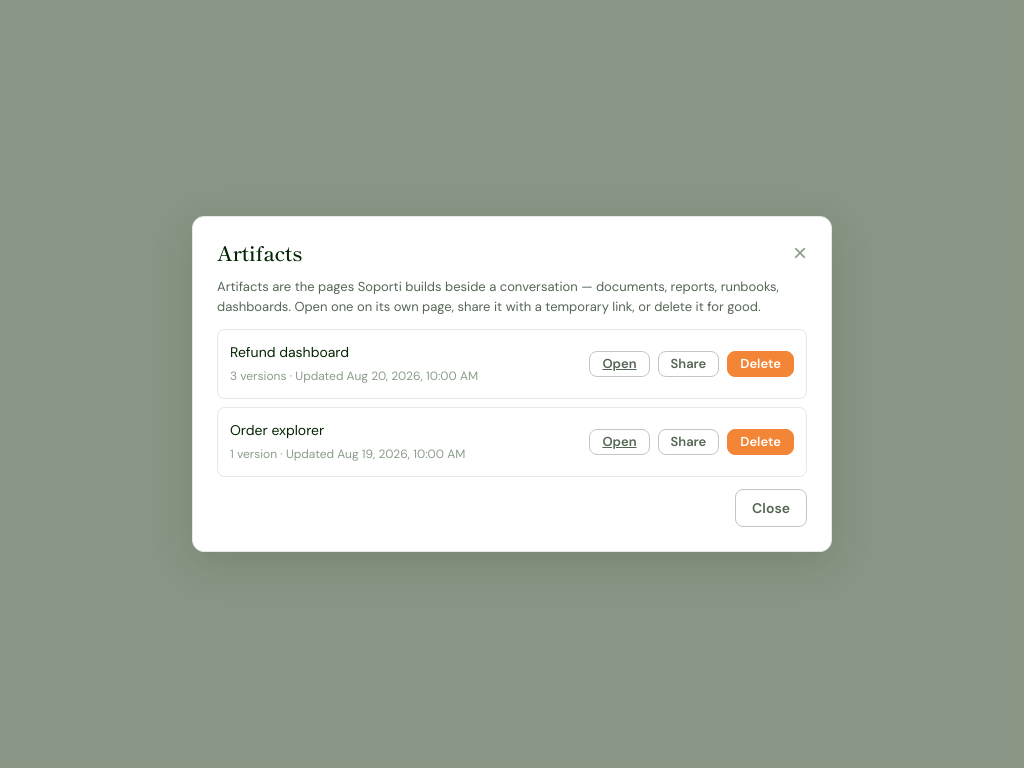
Test: ArtifactsModal › asks for confirmation before deleting
The image size is (1024, 768).
expect the text "Refund dashboard" is shown: met, box [230, 343, 349, 361]
Click the button "Delete" in the row of "Refund dashboard": [761, 364] box [727, 351, 794, 377]
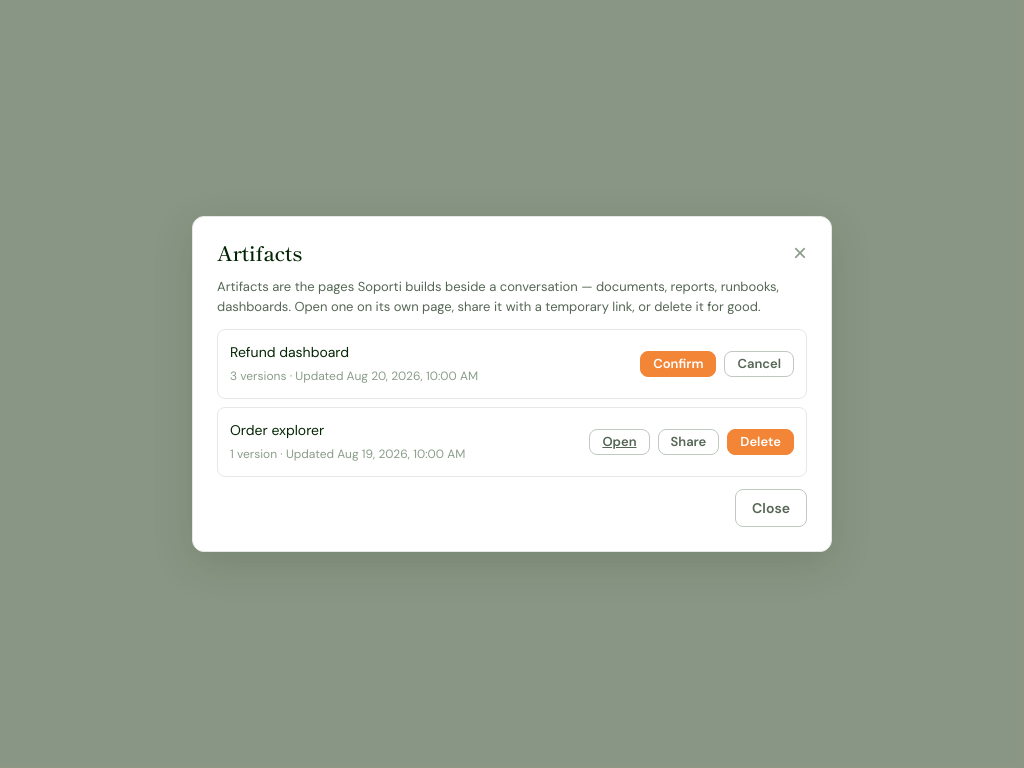
expect the button "Confirm" is shown: met, box [640, 351, 716, 377]
